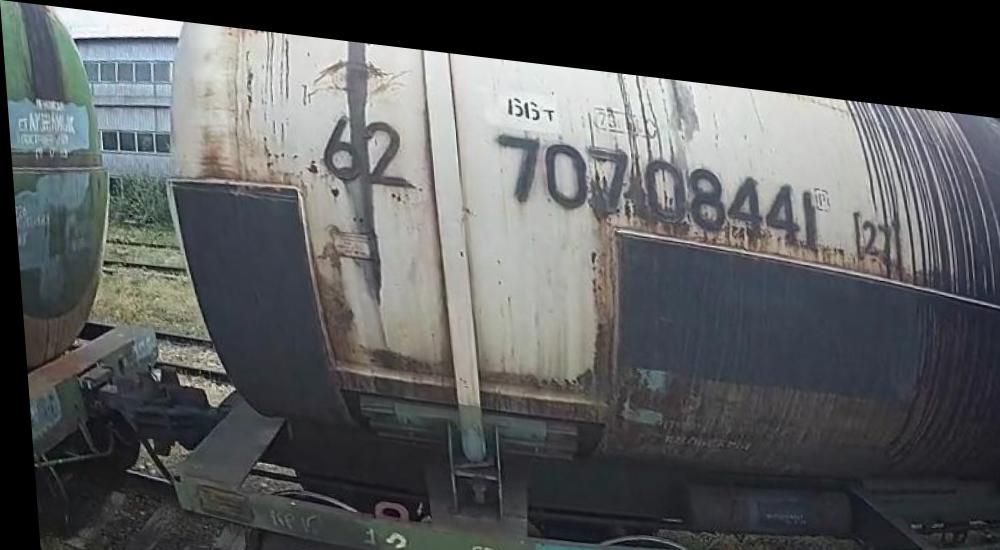Wagon-number: (488, 116, 821, 235)
